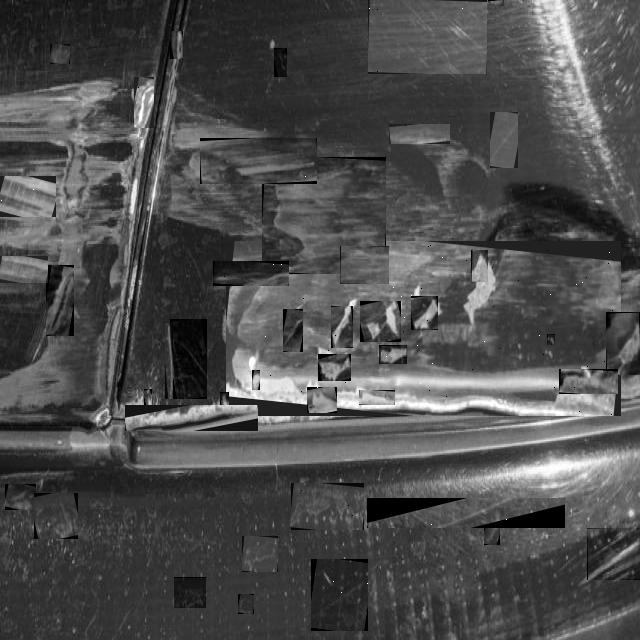Dent: (226, 241, 621, 416), (262, 157, 386, 274), (368, 0, 487, 74), (367, 498, 565, 528), (200, 138, 317, 184), (311, 559, 368, 631), (125, 405, 258, 431), (291, 483, 364, 530), (170, 319, 207, 399), (587, 528, 640, 580), (248, 374, 313, 414), (0, 176, 56, 217), (606, 312, 640, 375), (34, 493, 78, 539), (46, 265, 74, 336), (213, 261, 289, 286), (340, 246, 389, 284), (360, 301, 401, 342), (490, 112, 518, 168), (559, 369, 618, 394), (242, 536, 278, 572), (0, 256, 48, 283), (389, 124, 450, 144), (134, 77, 154, 128), (174, 577, 206, 608), (331, 306, 353, 348), (411, 296, 438, 330), (318, 354, 351, 381), (283, 309, 303, 352), (5, 484, 36, 510), (307, 387, 337, 413), (445, 17, 474, 39), (165, 322, 173, 399), (471, 250, 488, 282), (359, 390, 395, 405), (379, 345, 407, 364), (484, 515, 500, 545), (50, 44, 70, 64), (170, 32, 183, 62), (274, 48, 287, 77), (238, 594, 254, 614), (252, 370, 260, 390), (318, 572, 329, 586), (144, 389, 152, 405), (220, 392, 229, 406), (580, 366, 589, 378), (488, 0, 504, 6), (547, 334, 555, 345)
